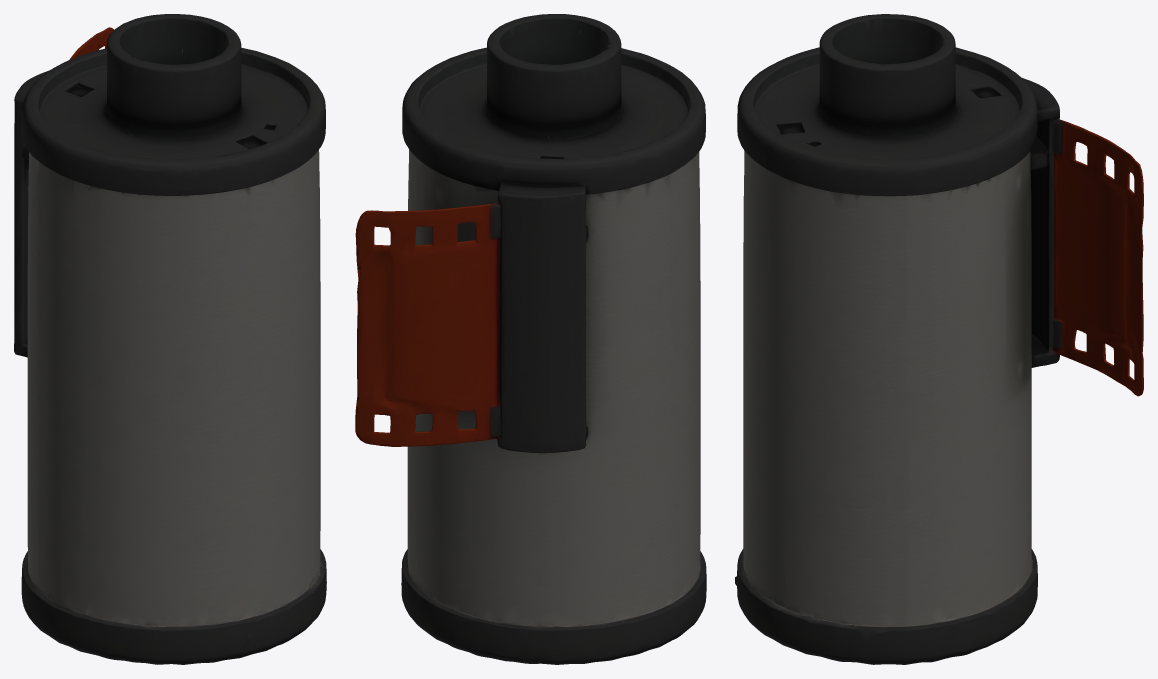
Rendered from film-cartridge-tripo-h31-raw.glb.
3 views of the same model, side by side, from view 1: azimuth 30°, elevation 25°; view 2: azimuth 150°, elevation 25°; view 3: azimuth 270°, elevation 25° (orthographic).
Parts seen in each view (by area): view 1: tripo_node_46eedae6-41b2-4360-90fb-c717ad1640df; view 2: tripo_node_46eedae6-41b2-4360-90fb-c717ad1640df; view 3: tripo_node_46eedae6-41b2-4360-90fb-c717ad1640df.
Part boxes in pixels (box(x1,y1,x2,y2)): tripo_node_46eedae6-41b2-4360-90fb-c717ad1640df: box(14, 14, 326, 664); tripo_node_46eedae6-41b2-4360-90fb-c717ad1640df: box(355, 14, 706, 664); tripo_node_46eedae6-41b2-4360-90fb-c717ad1640df: box(735, 14, 1143, 664).
Bounding box in the file's own units: 0.4941 × 1 × 0.6569.
Materials: 1 (1 with a texture image).
